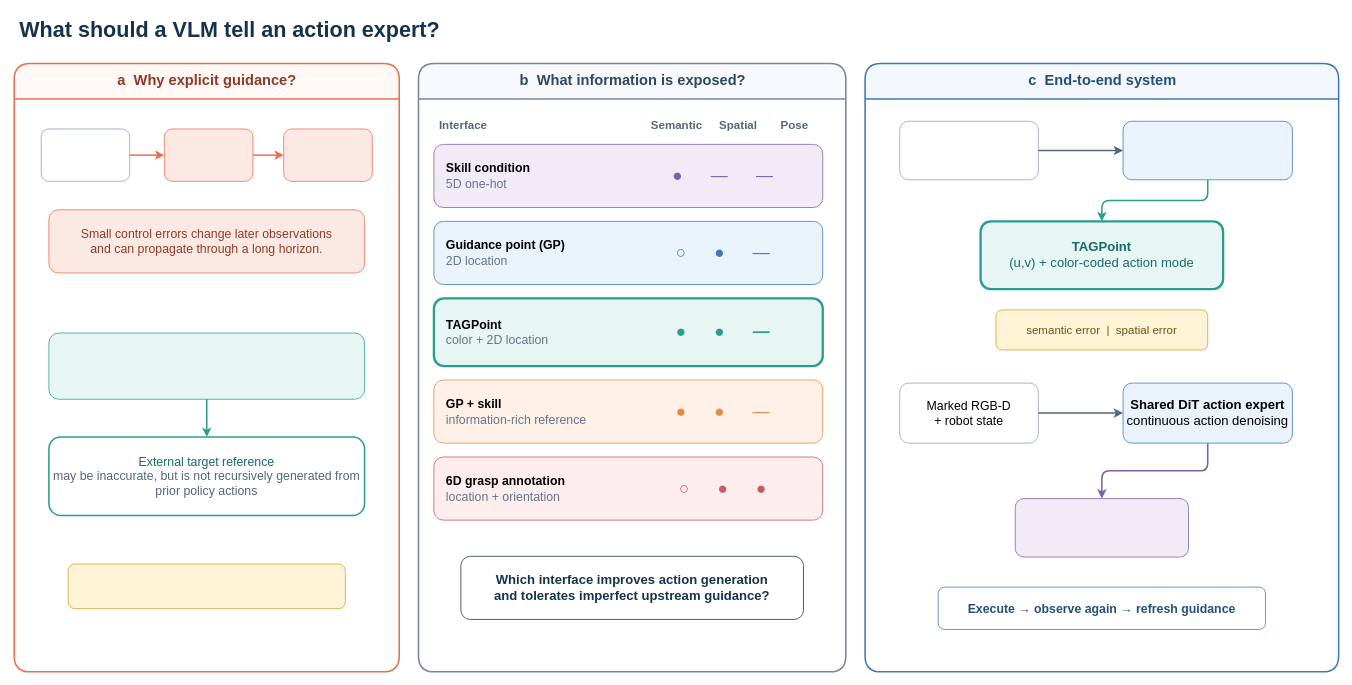
This 1352x685 diagram has some shape labels left out. The shapes that lost their labels are listed below. From the top down, each one's centre as x and y in pixels, then its label:
(85,154): Observation t
(208,154): Action error
(327,154): Shifted state t+1
(968,150): Current RGB image + instruction
(1207,150): VLM semantic + spatial grounding
(206,365): VLM re-grounds from the current image stage semantics + image-space target
(1101,527): Receding-horizon action chunk
(206,586): Guidance does not remove downstream control error.
